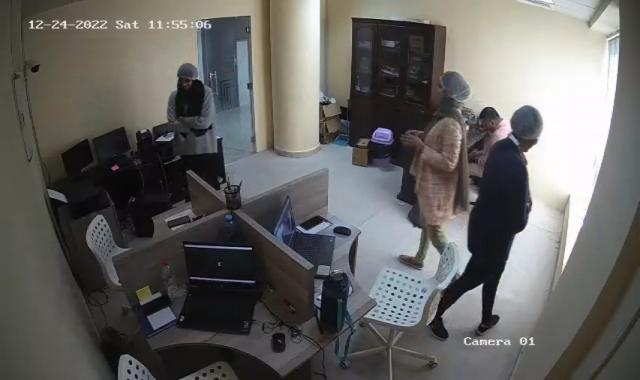hairnet: (510, 102, 542, 156), (437, 71, 471, 110), (176, 61, 199, 91)
no_hairnet: (479, 106, 501, 133)
